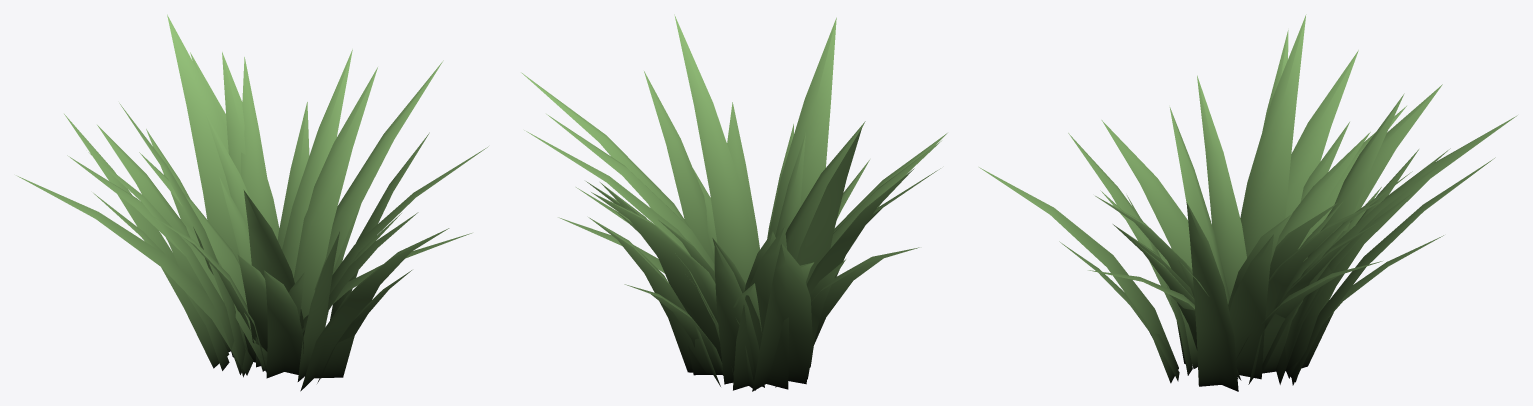
Rendered from SM_Veg_08_ShortGrass.fbx.
3 views of the same model, side by side, from view 1: azimuth 30°, elevation 25°; view 2: azimuth 150°, elevation 25°; view 3: azimuth 270°, elevation 25° (orthographic). The views are drawn at different scales.
Parts seen in each view (by area): view 1: SM_Veg_08_ShortGrass; view 2: SM_Veg_08_ShortGrass; view 3: SM_Veg_08_ShortGrass.
Part boxes in pixels (x1,y1,x2,y2): SM_Veg_08_ShortGrass: (16,14,488,391); SM_Veg_08_ShortGrass: (521,14,947,391); SM_Veg_08_ShortGrass: (979,14,1517,391).
Bounding box in the file's own units: 38.8 × 25 × 42.9.
